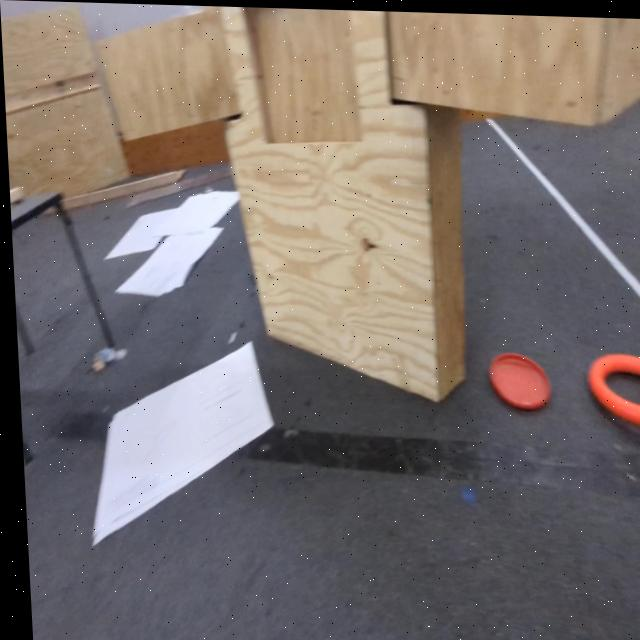note: (585, 346, 640, 425)
